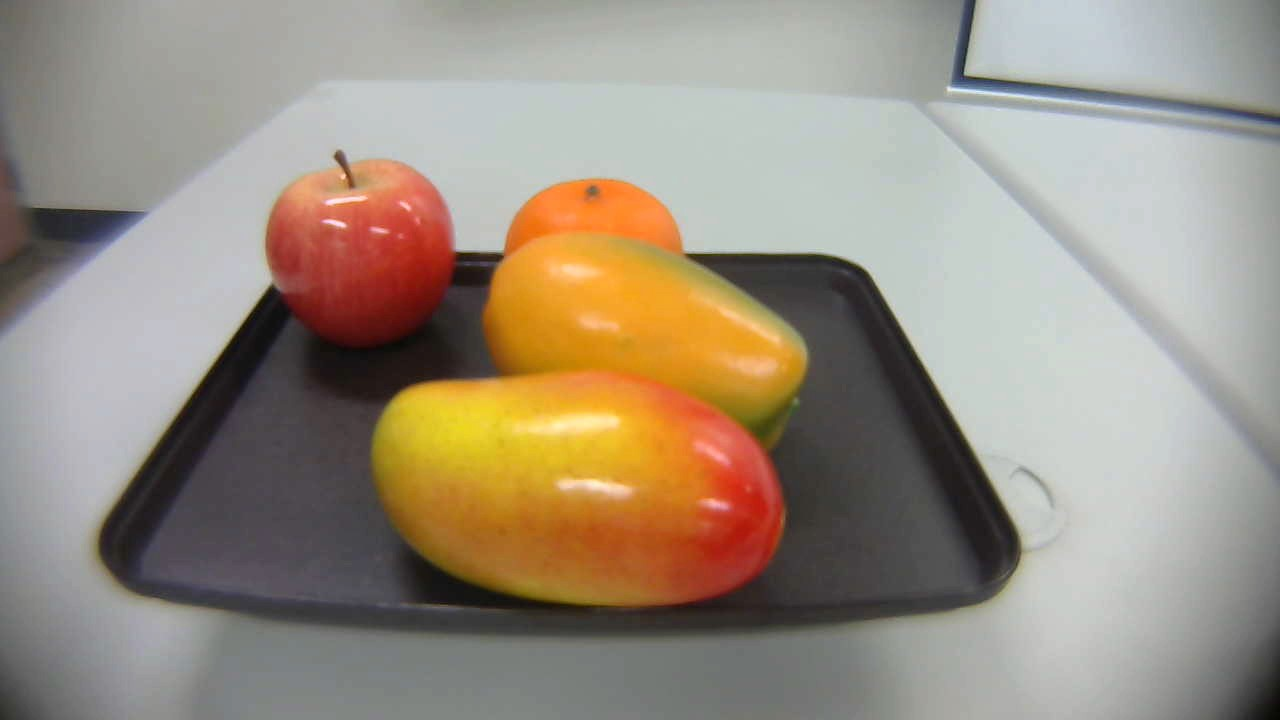orange: (507, 173, 682, 296)
papya: (467, 221, 822, 453)
red apple: (253, 144, 470, 366)
red mango: (367, 359, 787, 639)
